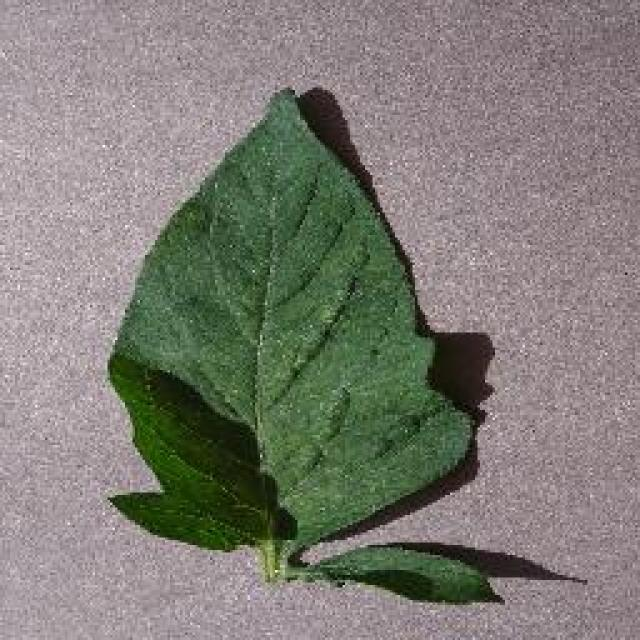Tomato___Spider_mites Two-spotted_spider_mite: (108, 90, 492, 600)
